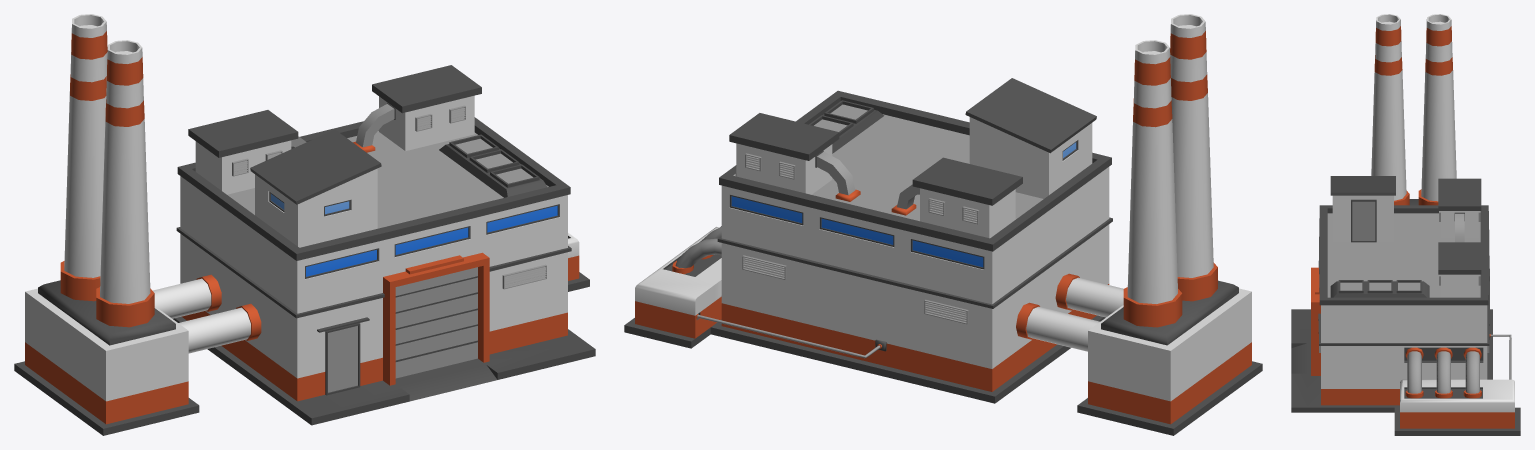
File: Factory_1.fbx
3 views of the same model, side by side, from view 1: azimuth 30°, elevation 25°; view 2: azimuth 150°, elevation 25°; view 3: azimuth 270°, elevation 25° (orthographic). The views are drawn at different scales.
Parts seen in each view (by area): view 1: Factory_1; view 2: Factory_1; view 3: Factory_1.
Boxes of the visible parts, x1,y1,x2,y2 form: Factory_1: (14, 14, 595, 435); Factory_1: (624, 14, 1262, 435); Factory_1: (1291, 14, 1520, 435).
Size of the model in its own units: 1532 by 1010 by 827.
